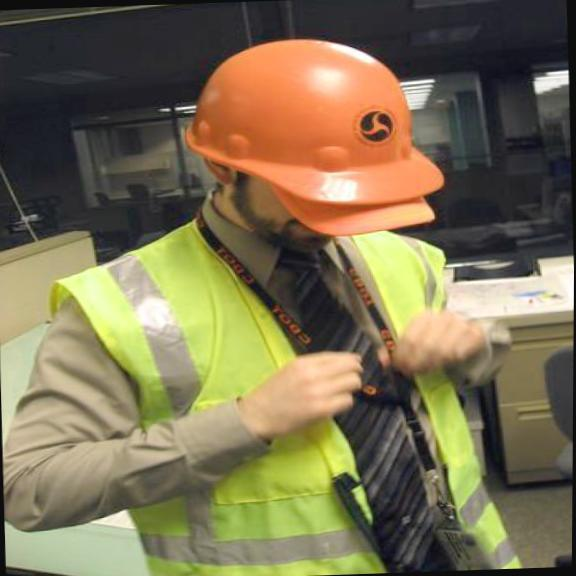safety_vest: (29, 206, 529, 576)
